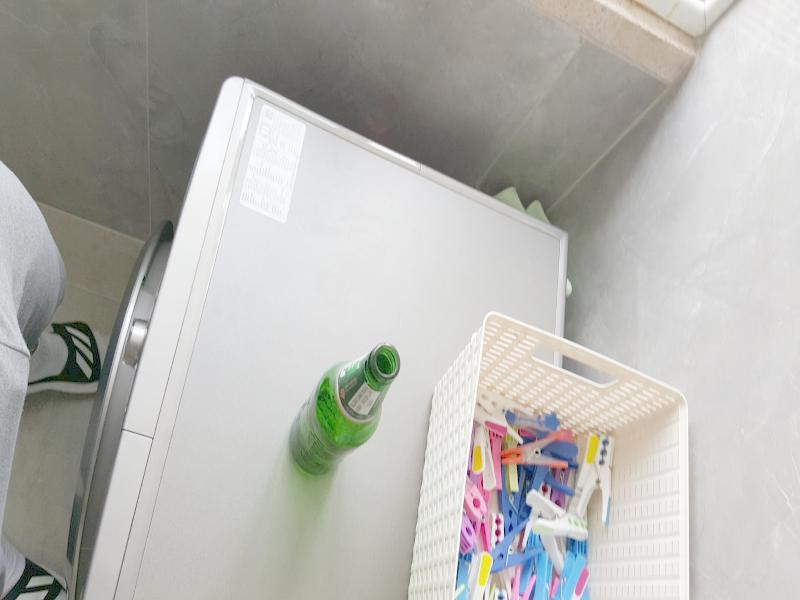Beer: (287, 341, 398, 474)
